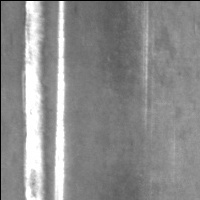scratches: (22, 1, 47, 200), (52, 1, 69, 200), (138, 2, 152, 128)
